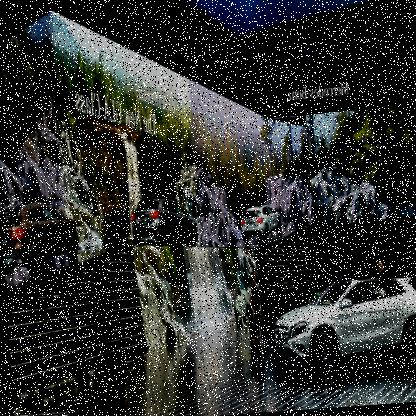Car: (270, 277, 415, 387), (0, 197, 79, 277), (130, 197, 199, 247), (240, 203, 282, 241)
